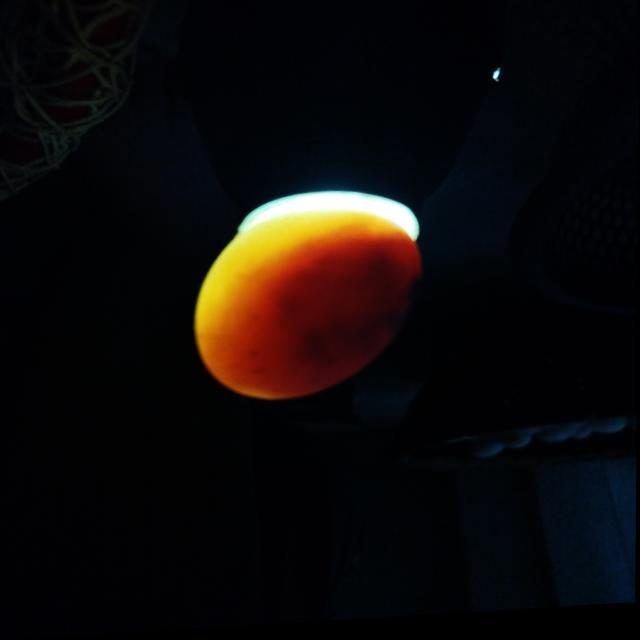Area Infectada: (277, 263, 426, 372)
